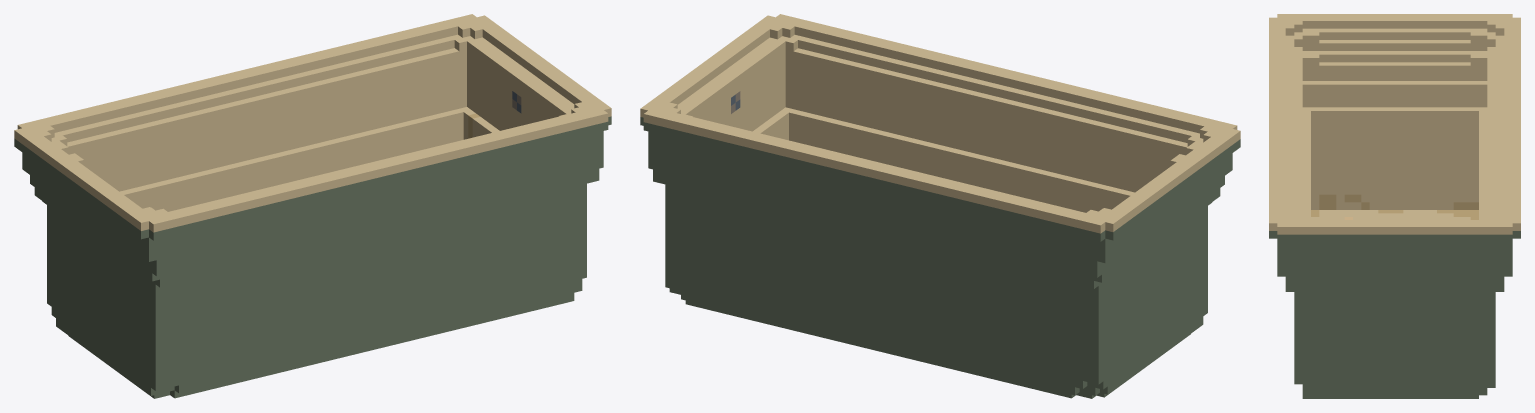
File: bathtub.obj
The picture shows the model from 3 angles, left to right: view 1: azimuth 30°, elevation 25°; view 2: azimuth 150°, elevation 25°; view 3: azimuth 270°, elevation 25°; orthographic projection. The views are drawn at different scales.
Bounding box in the file's own units: 6 × 2.4 × 3.
Materials: 1 (1 with a texture image).
